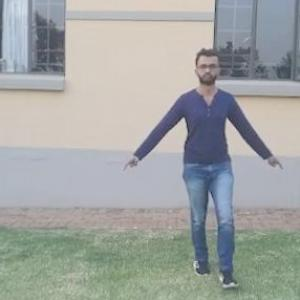land: (142, 67, 270, 245)
